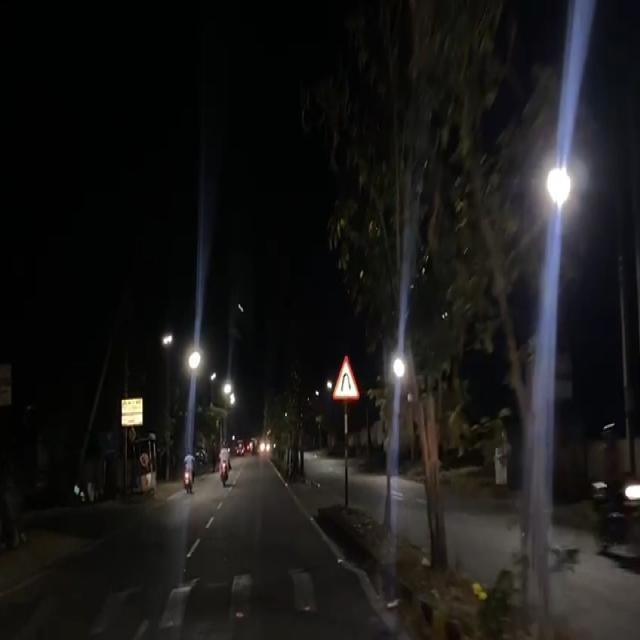bien_nguy_hiem: (331, 353, 361, 402)
